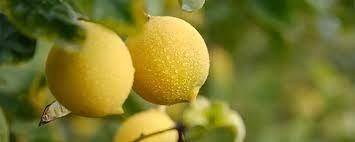lemon: (46, 22, 134, 118), (124, 16, 210, 105), (113, 110, 178, 142)
